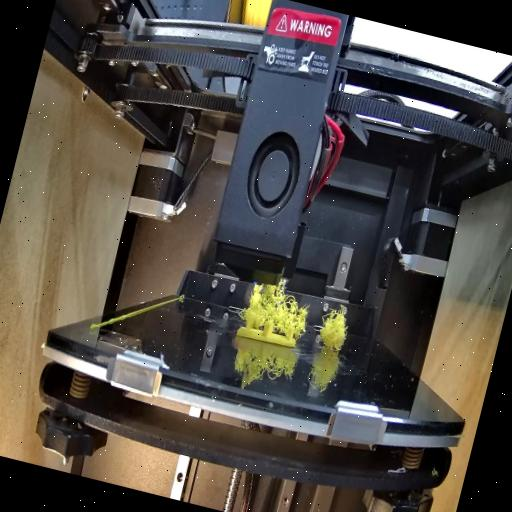spaghetti: (240, 273, 317, 339), (314, 302, 355, 356)
